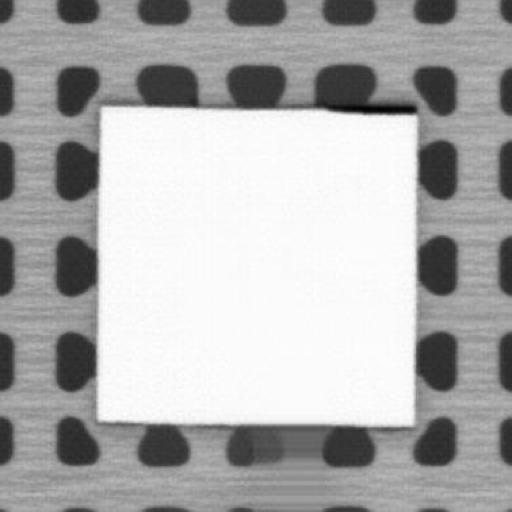DIE_BROKEN: (322, 101, 418, 115)
